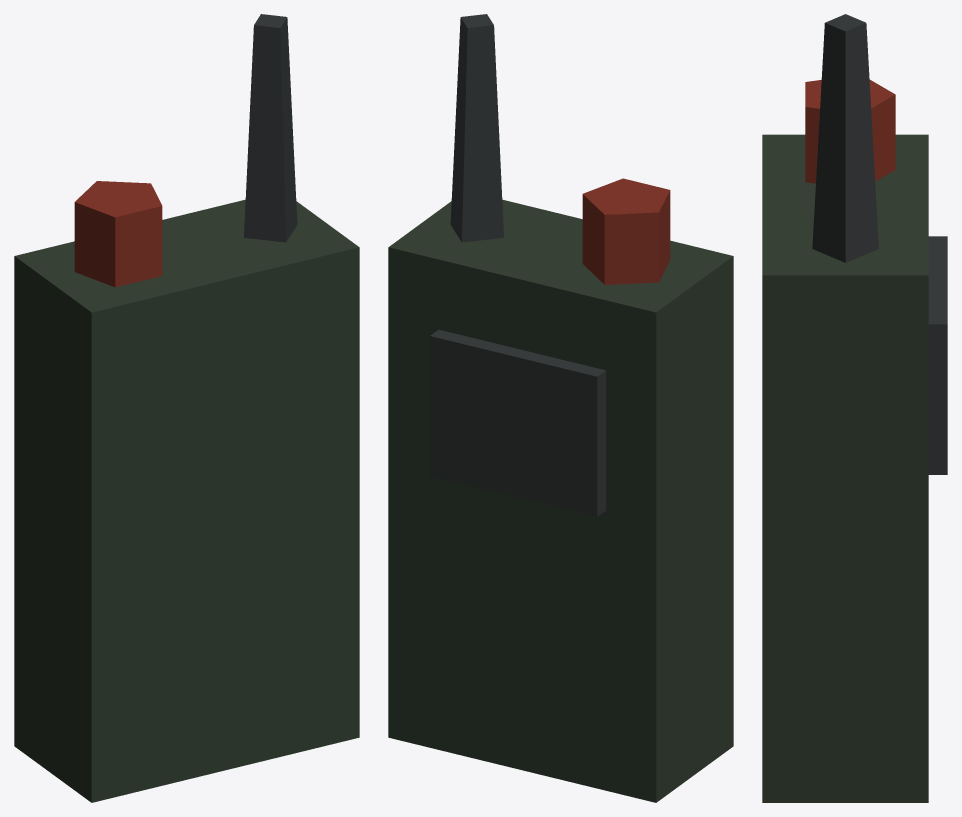
The model's file is tool_walkie_talkie.glb.
3 renders of one model, left to right at view 1: azimuth 30°, elevation 25°; view 2: azimuth 150°, elevation 25°; view 3: azimuth 270°, elevation 25°, orthographic. The views are drawn at different scales.
Visible parts, largest first — view 1: Walkie; view 2: Walkie; view 3: Walkie.
Boxes of the visible parts, x1,y1,x2,y2 form: Walkie: (14,14,359,802); Walkie: (388,14,733,802); Walkie: (762,14,947,802).
Size of the model in its own units: 0.08 by 0.2 by 0.0445.
